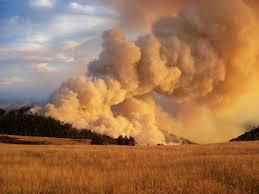yanwu: (23, 0, 259, 146)
